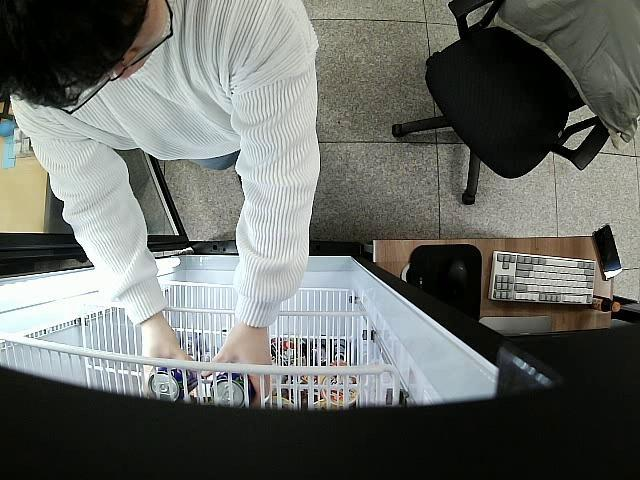14_welchsGrape: (148, 365, 197, 402), (207, 372, 244, 406)
